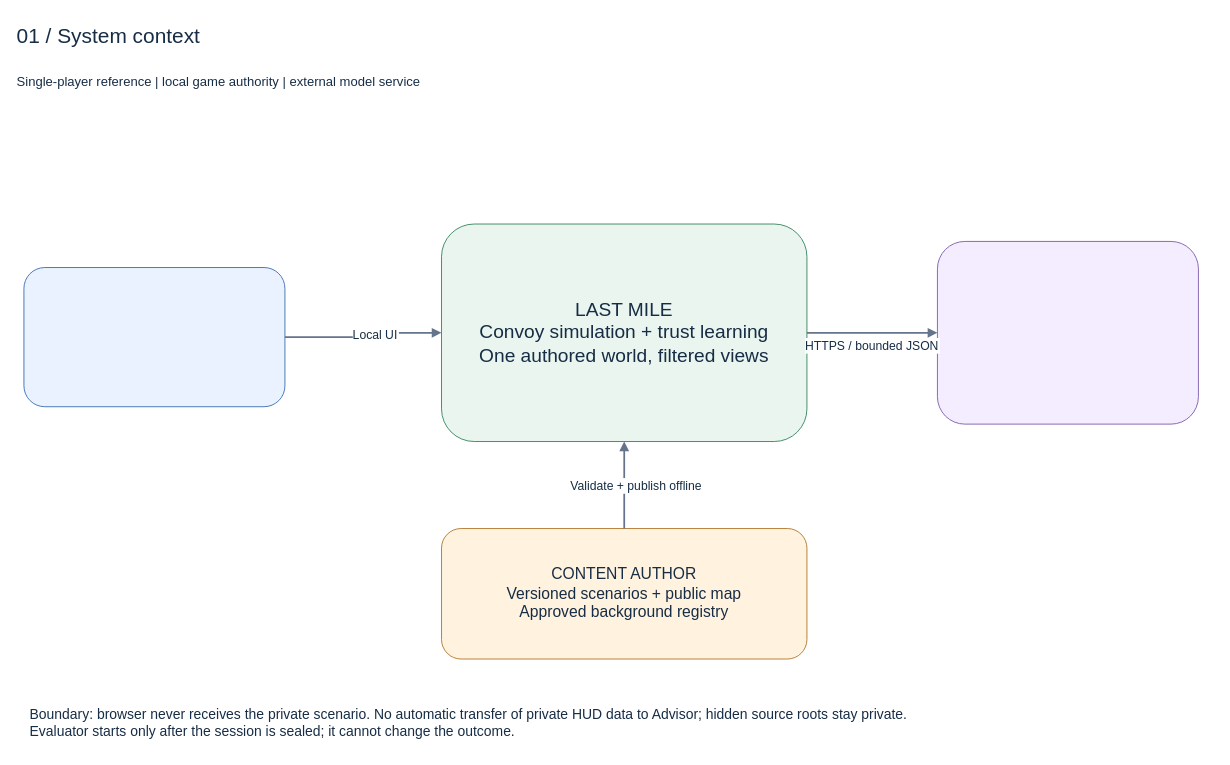
This 1230x765 diagram has some shape labels left out. The centre of each missing label's shape, as x and y in pixels:
"HUMAN COMMANDER Investigates, uploads, asks, decides" goes at (154,337).
"MODEL PROVIDER Advisor / Evaluator inference No direct game or database access" goes at (1067,332).
